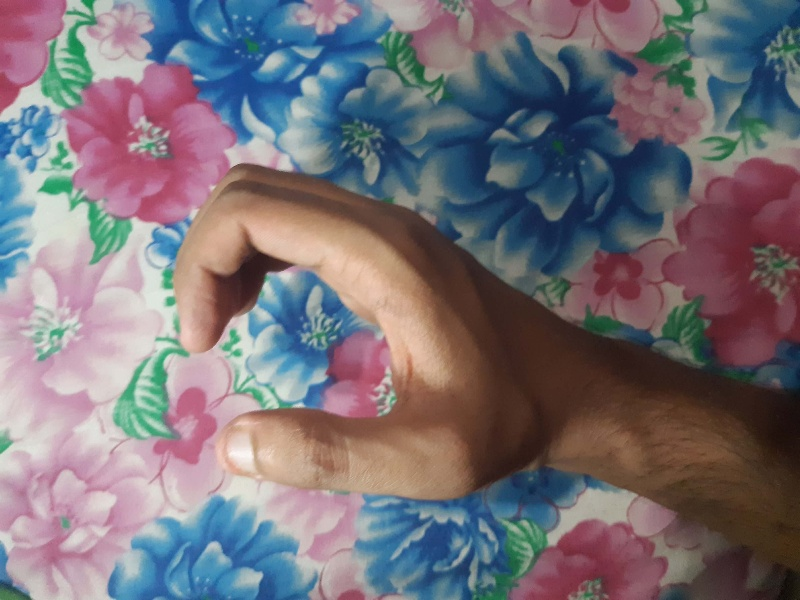one: (162, 146, 549, 518)
